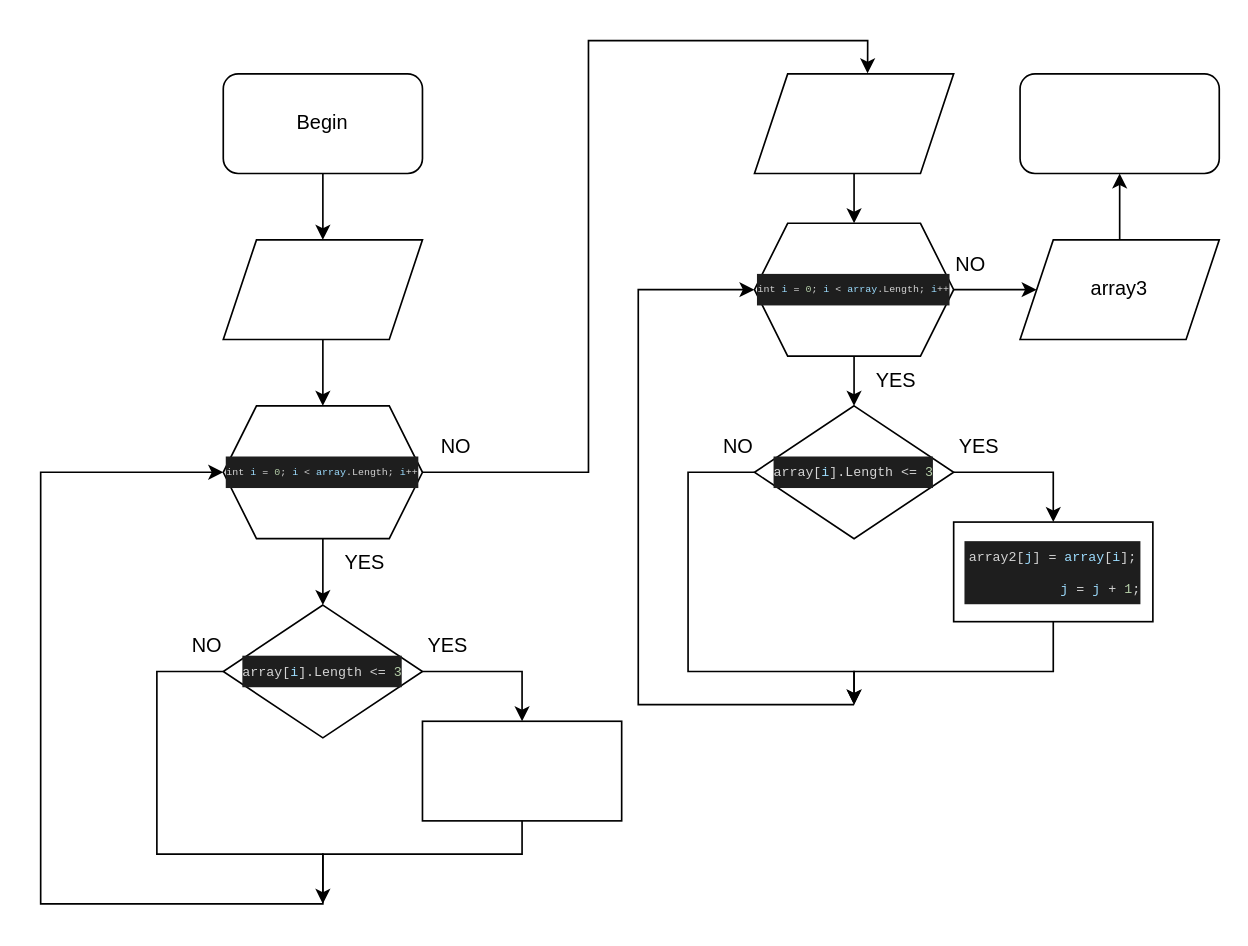
This 1248x946 diagram has some shape labels left out. The shapes that lost their labels are listed below. From the top down, each one's centre as x and y in pixels, then its label:
At point (853, 122): "array2,j".
At point (1118, 122): "End".
At point (322, 288): "array,l".
At point (521, 770): "l = l + 1 ;".
